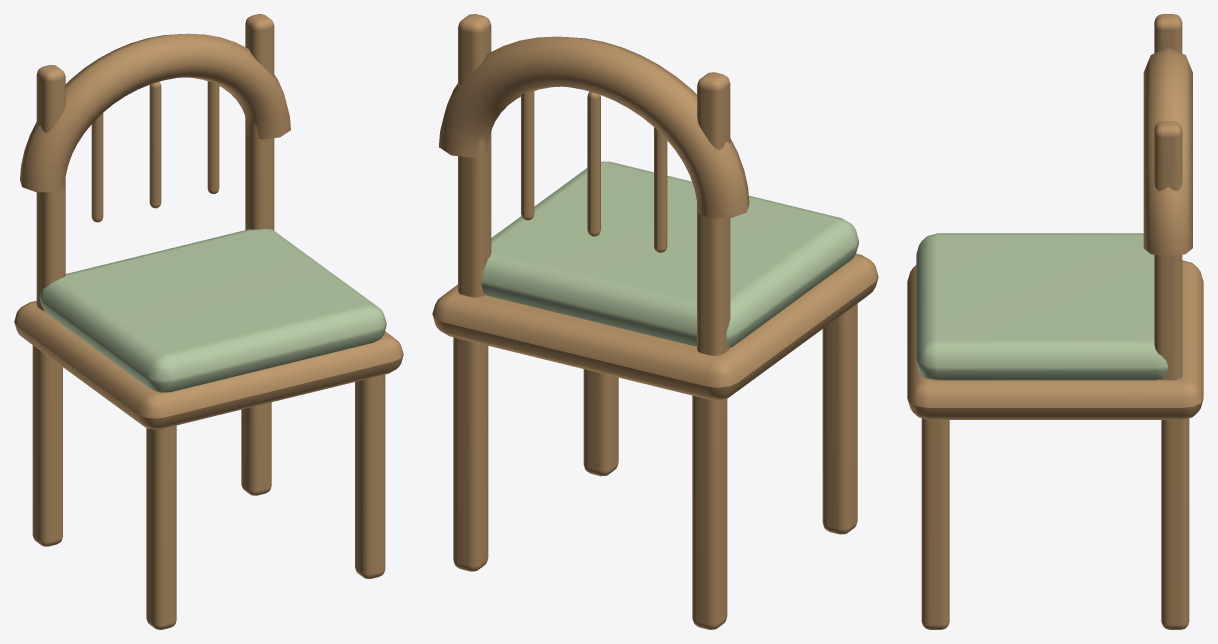
The model's file is botanic-seat.glb.
3 renders of one model, left to right at view 1: azimuth 30°, elevation 25°; view 2: azimuth 150°, elevation 25°; view 3: azimuth 270°, elevation 25°, orthographic. The views are drawn at different scales.
Parts seen in each view (by area): view 1: Chair leg.012; view 2: Chair leg.012; view 3: Chair leg.012.
Boxes of the visible parts, bbox=[...] form: Chair leg.012: bbox=[14, 14, 403, 629]; Chair leg.012: bbox=[432, 14, 878, 629]; Chair leg.012: bbox=[907, 14, 1203, 629].
Size of the model in its own units: 0.9196 by 1.59 by 0.84.
